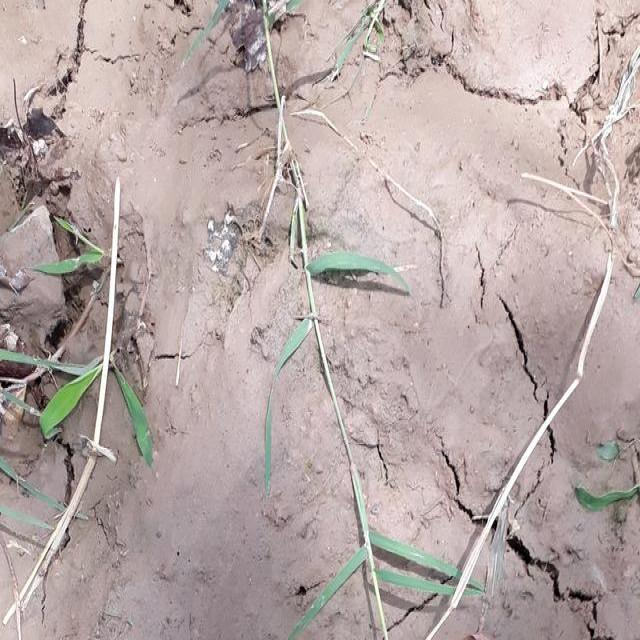weed: (283, 180, 383, 391)
